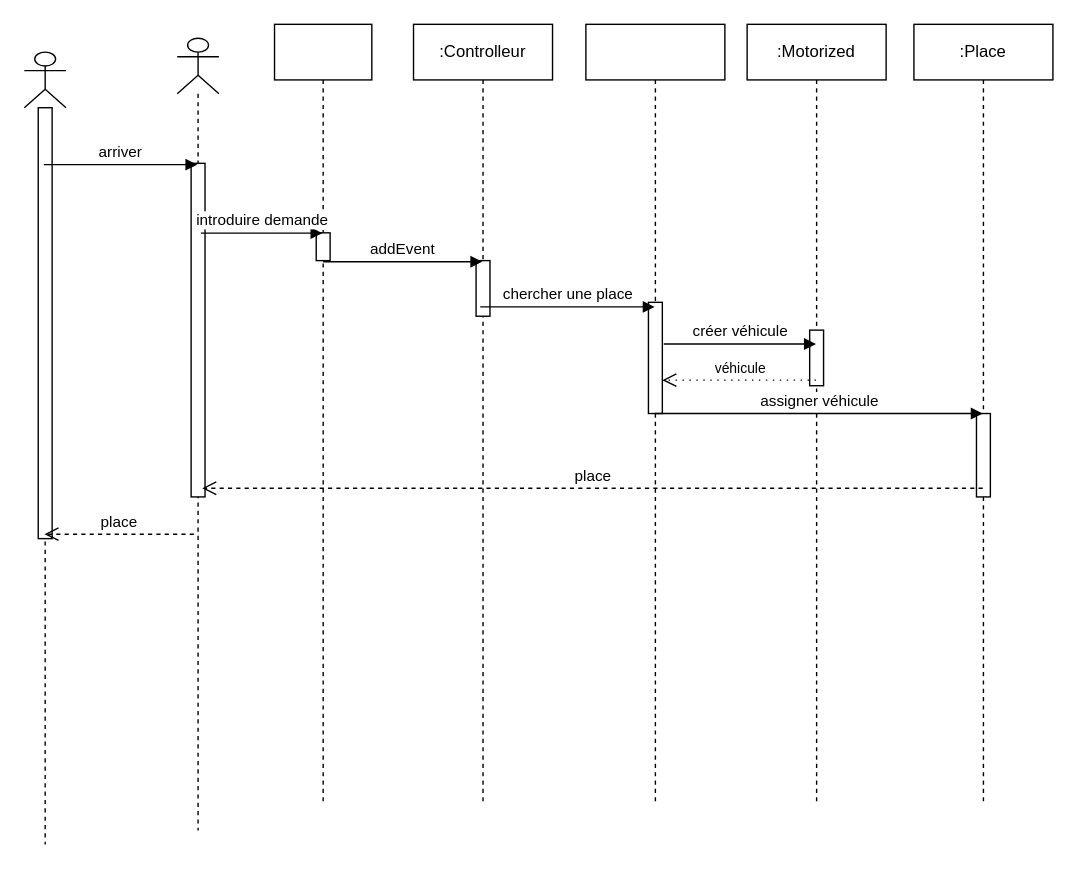
Some shapes in this 1077 by 869 pixel diagram are drawn without their labels. The box of each missing label's shape, as (x1, y1, x2, y2) in pixels:
:Display: (273, 23, 372, 803)
:Parking: (584, 23, 725, 803)
